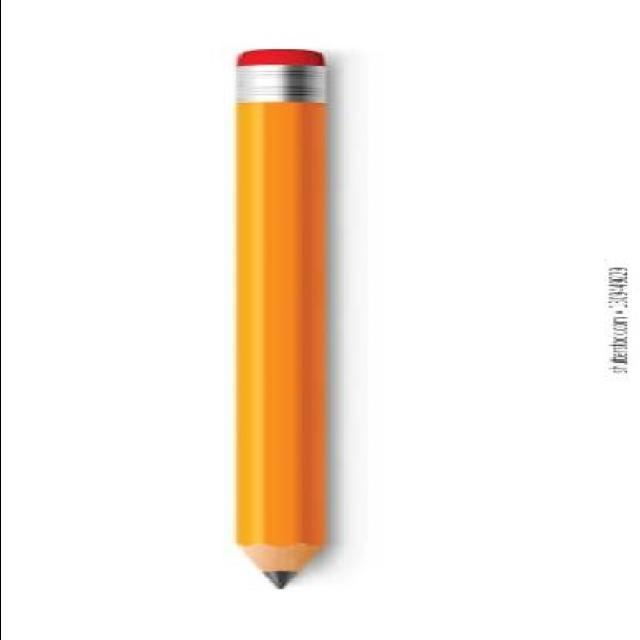pencil: (226, 528, 332, 596)
